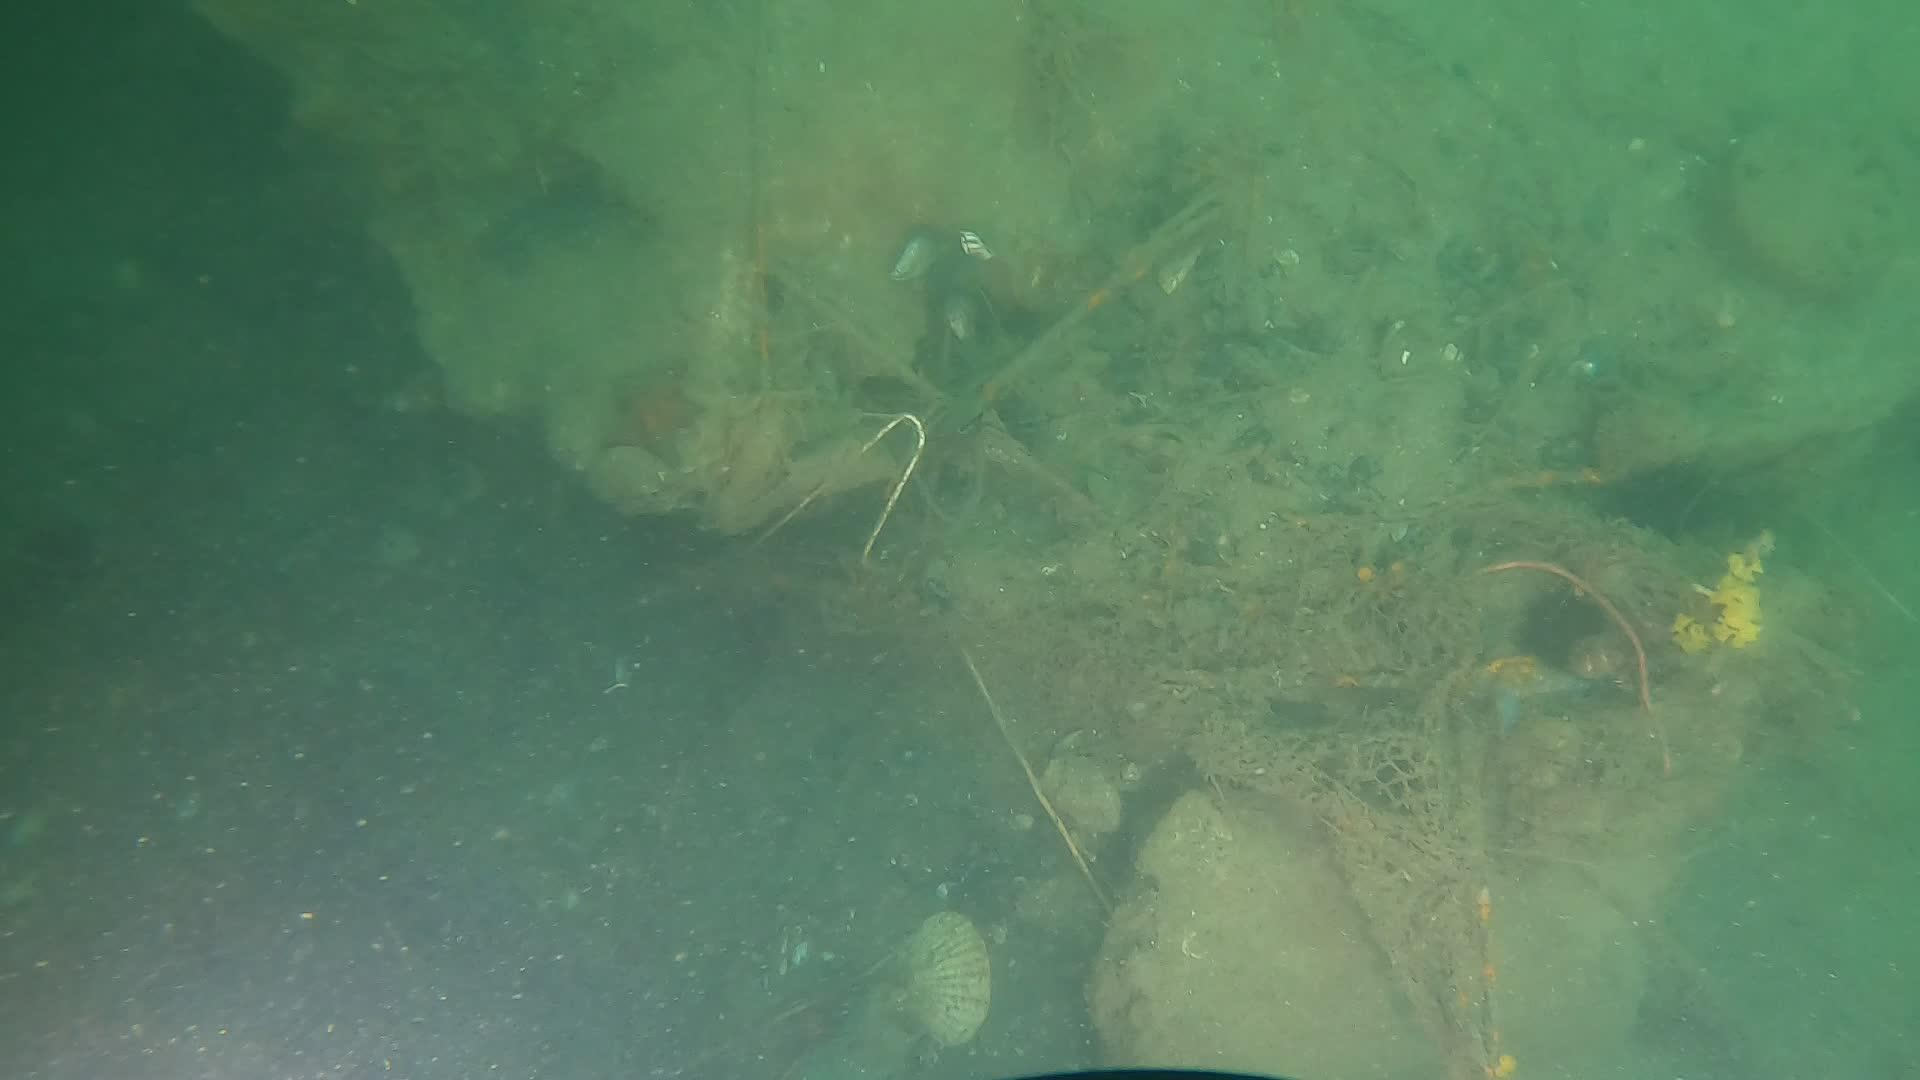fish net: (1273, 582, 1447, 819)
